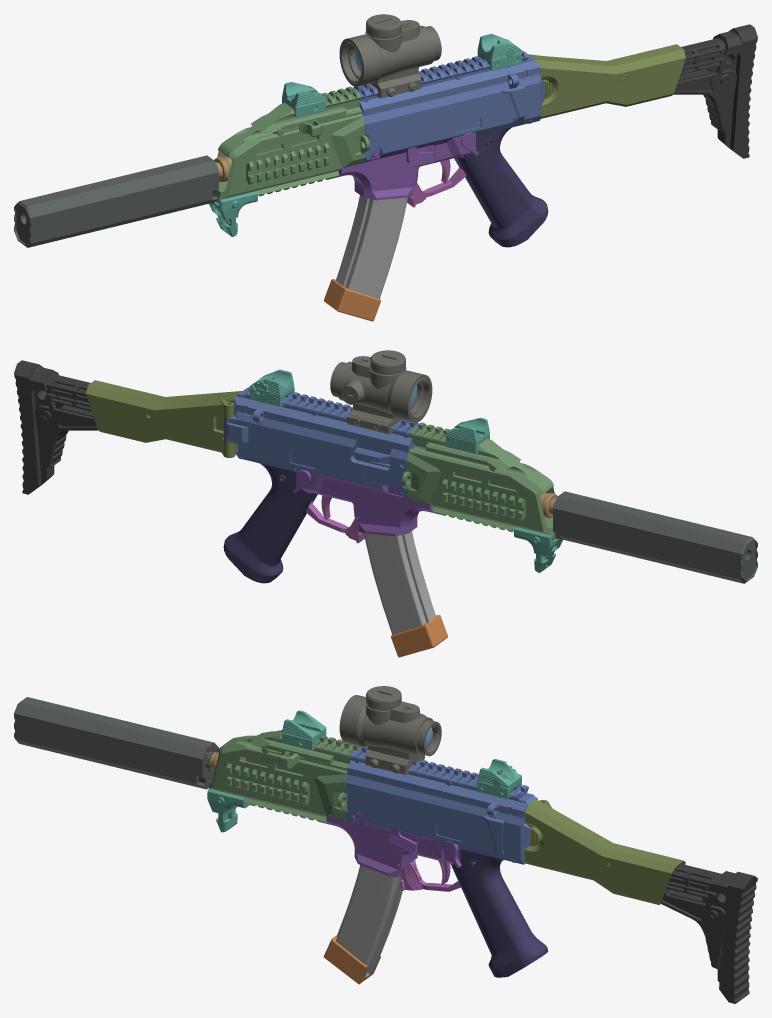
The picture shows the model from 3 angles, top to bottom: view 1: azimuth 30°, elevation 25°; view 2: azimuth 150°, elevation 25°; view 3: azimuth 330°, elevation 25°; orthographic projection.
Visible parts, largest first — view 1: polySurface64, barrel4_low, supressor2_low, polySurface211, polySurface15, polySurface37, polySurface8, polySurface30, polySurface56, polySurface26, polySurface80, polySurface45 (+5 smaller); view 2: barrel4_low, polySurface64, supressor2_low, polySurface211, polySurface15, polySurface37, polySurface8, polySurface56, polySurface30, polySurface26, polySurface12, polySurface45 (+5 smaller); view 3: polySurface64, supressor2_low, barrel4_low, polySurface211, polySurface15, polySurface37, polySurface8, polySurface30, polySurface56, polySurface45, polySurface80, polySurface26 (+5 smaller).
Boxes of the visible parts, bbox=[...] form: polySurface64: bbox=[353, 47, 532, 162]; barrel4_low: bbox=[216, 86, 369, 204]; supressor2_low: bbox=[14, 155, 219, 247]; polySurface211: bbox=[529, 44, 685, 118]; polySurface15: bbox=[673, 24, 757, 158]; polySurface37: bbox=[454, 127, 548, 247]; polySurface8: bbox=[336, 195, 407, 298]; polySurface30: bbox=[339, 20, 441, 86]; polySurface56: bbox=[338, 132, 475, 200]; polySurface26: bbox=[324, 279, 380, 321]; polySurface80: bbox=[209, 191, 257, 236]; polySurface45: bbox=[522, 52, 544, 124]; barrel4_low: bbox=[402, 422, 555, 540]; polySurface64: bbox=[239, 383, 419, 498]; supressor2_low: bbox=[552, 491, 757, 583]; polySurface211: bbox=[86, 380, 242, 457]; polySurface15: bbox=[14, 360, 98, 494]; polySurface37: bbox=[223, 463, 317, 583]; polySurface8: bbox=[364, 531, 435, 634]; polySurface56: bbox=[296, 468, 433, 536]; polySurface30: bbox=[330, 356, 432, 422]; polySurface26: bbox=[391, 615, 447, 657]; polySurface12: bbox=[445, 417, 489, 453]; polySurface45: bbox=[223, 389, 249, 460]; polySurface64: bbox=[345, 746, 528, 859]; supressor2_low: bbox=[14, 697, 218, 789]; barrel4_low: bbox=[209, 730, 360, 824]; polySurface211: bbox=[524, 799, 685, 904]; polySurface15: bbox=[660, 864, 757, 1003]; polySurface37: bbox=[450, 849, 548, 977]; polySurface8: bbox=[336, 865, 402, 979]; polySurface30: bbox=[339, 695, 441, 759]; polySurface56: bbox=[326, 816, 460, 877]; polySurface45: bbox=[504, 793, 537, 864]; polySurface80: bbox=[207, 789, 249, 832]; polySurface26: bbox=[323, 935, 380, 984].
Bounding box in the file's own units: 72.29 × 27.49 × 5.36.
